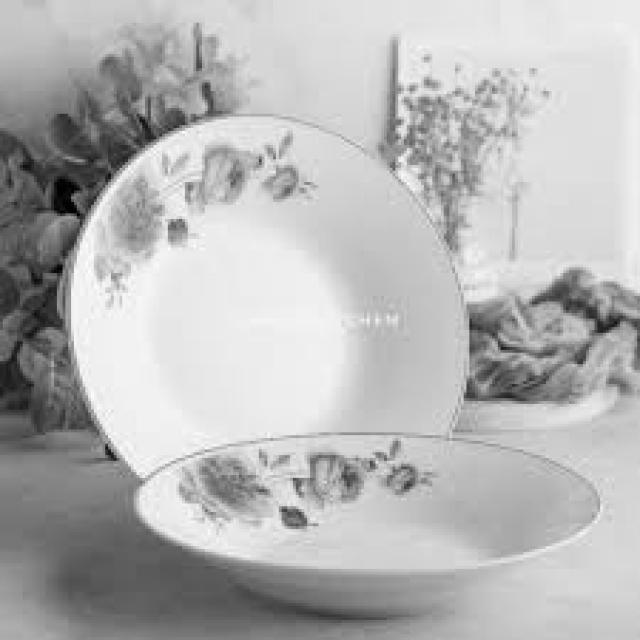dish: (93, 413, 634, 623)
